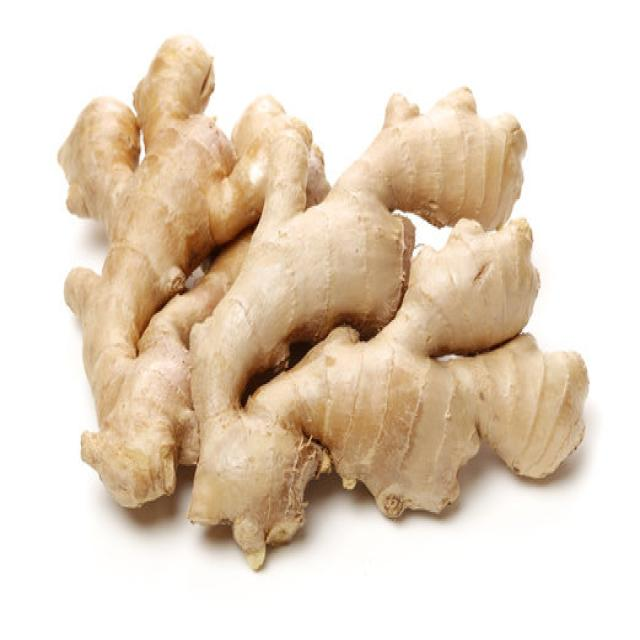Ginger: (56, 32, 588, 571)
